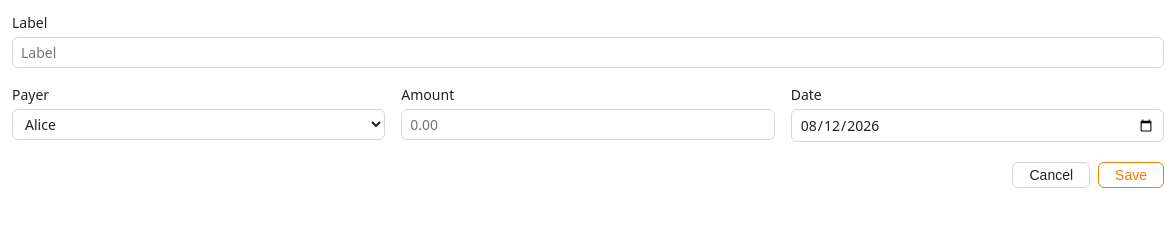
Test: ExpenseForm › rejects the invalid amount abc
This screenshot has width=1176, height=225.
Step 1. Type "X" into the field with id "expense-label" → (588, 52), box x1=12 y1=37 x2=1164 y2=68
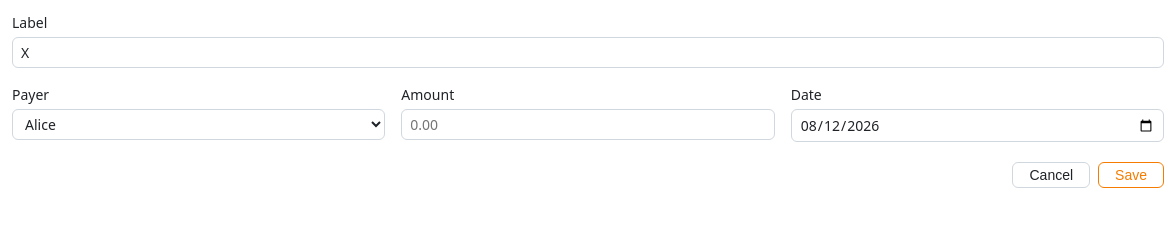
Step 2. Type "abc" into the field with id "expense-amount" → (588, 124), box x1=401 y1=109 x2=775 y2=140
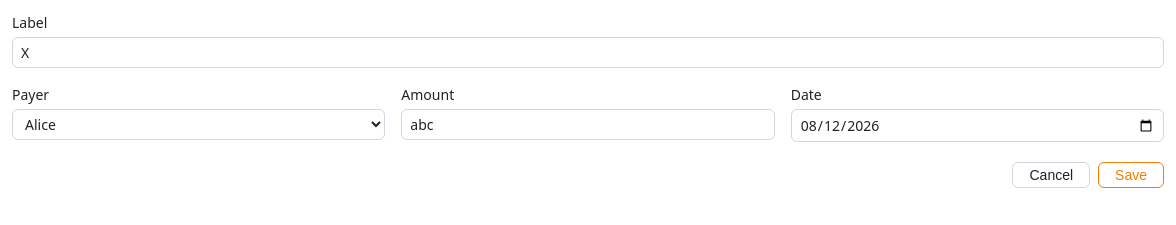
Step 3. Click the button "Save" → (1131, 175), box x1=1098 y1=162 x2=1164 y2=188
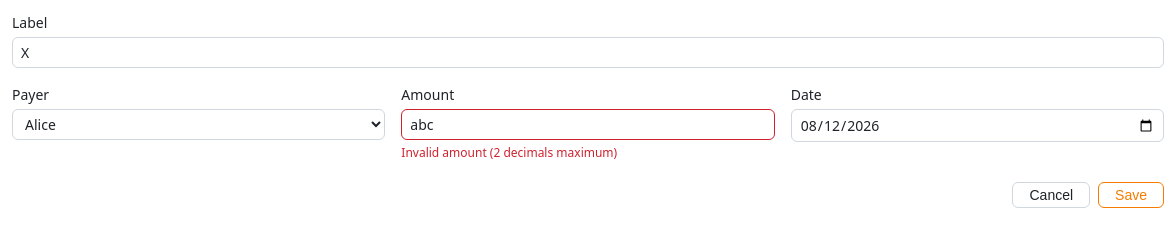
Check: the text "Invalid amount (2 decimals maximum)" is shown, box x1=401 y1=144 x2=617 y2=161
